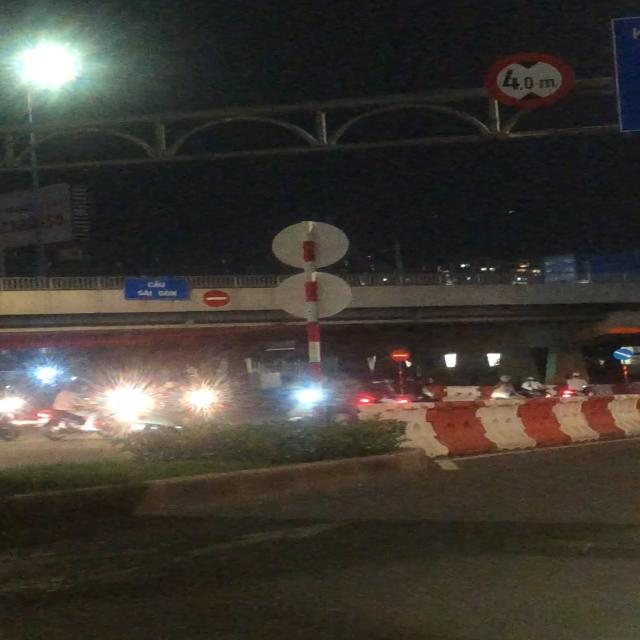Bien bao cam di nguoc chieu: (199, 288, 233, 308), (388, 347, 414, 363)
Bien bao han che chieu cao: (479, 50, 579, 109)
Bien bao huong phai di vong chuong ngai vat: (612, 348, 635, 361)
